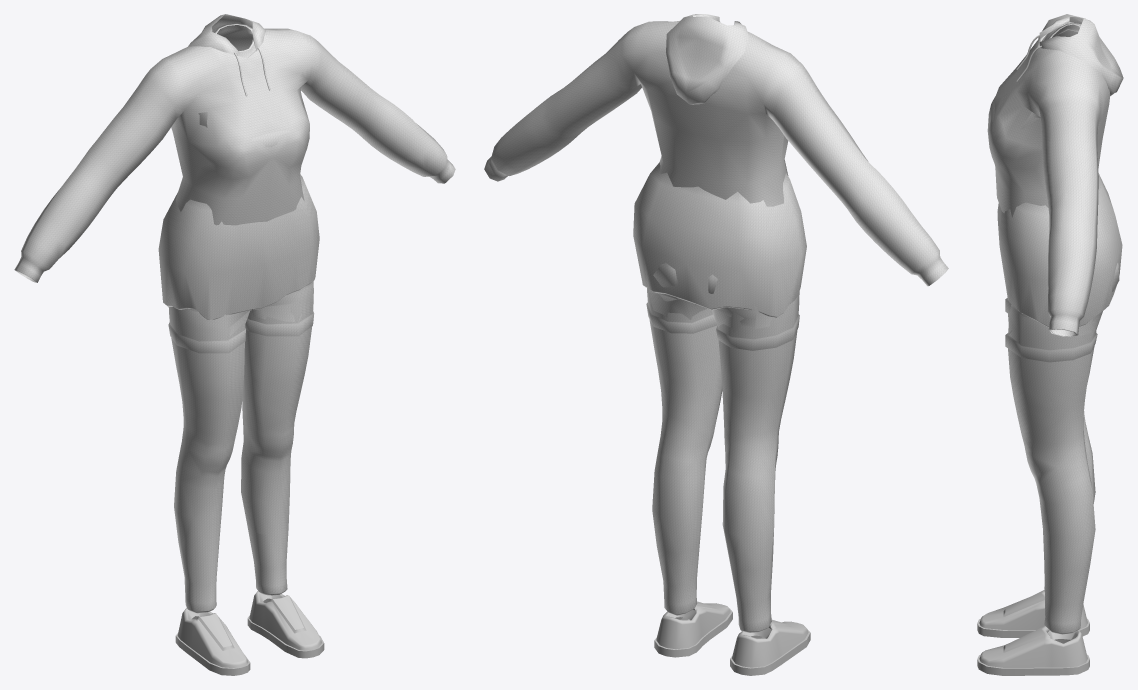
The model's file is Clothing_01.fbx.
The picture shows the model from 3 angles, left to right: view 1: azimuth 30°, elevation 25°; view 2: azimuth 150°, elevation 25°; view 3: azimuth 270°, elevation 25°; orthographic projection. The views are drawn at different scales.
Visible parts, largest first — view 1: Hoodie_01, Pants_01, Skirt_01, Shoes_01, Pants_02; view 2: Hoodie_01, Pants_01, Skirt_01, Shoes_01, Pants_02; view 3: Hoodie_01, Pants_01, Skirt_01, Shoes_01, Pants_02.
Part boxes in pixels (x1,y1,x2,y2): Hoodie_01: [14, 14, 455, 282]; Pants_01: [168, 283, 313, 613]; Skirt_01: [158, 23, 319, 319]; Shoes_01: [175, 591, 324, 675]; Pants_02: [168, 281, 314, 353]; Hoodie_01: [484, 14, 948, 286]; Pants_01: [647, 288, 799, 632]; Skirt_01: [633, 162, 806, 317]; Shoes_01: [654, 601, 810, 675]; Pants_02: [646, 263, 799, 350]; Hoodie_01: [987, 14, 1123, 336]; Pants_01: [1008, 305, 1099, 634]; Skirt_01: [990, 23, 1122, 327]; Shoes_01: [977, 590, 1089, 675]; Pants_02: [1005, 262, 1119, 362].
Size of the model in its own units: 100 by 135 by 28.43.
